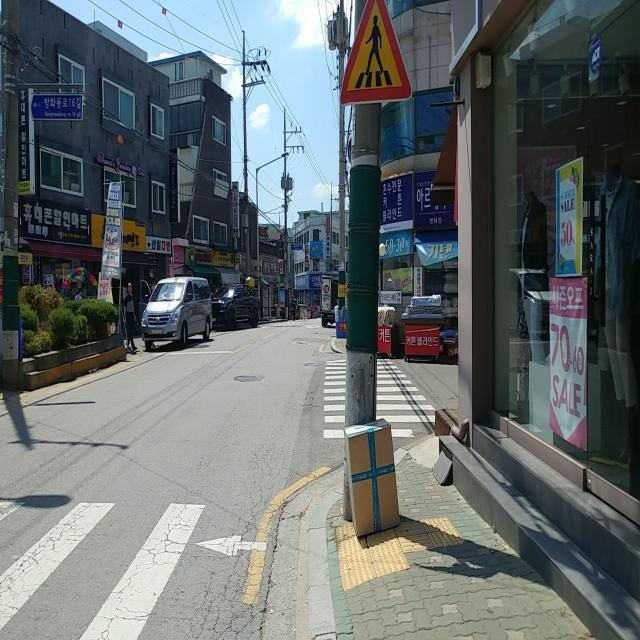횡단보도: (0, 495, 206, 640), (322, 357, 436, 440)
